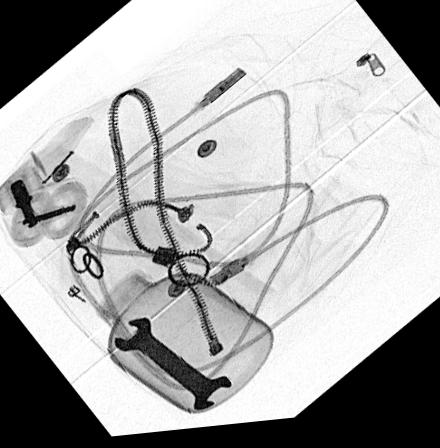Wrench: (113, 320, 231, 416)
